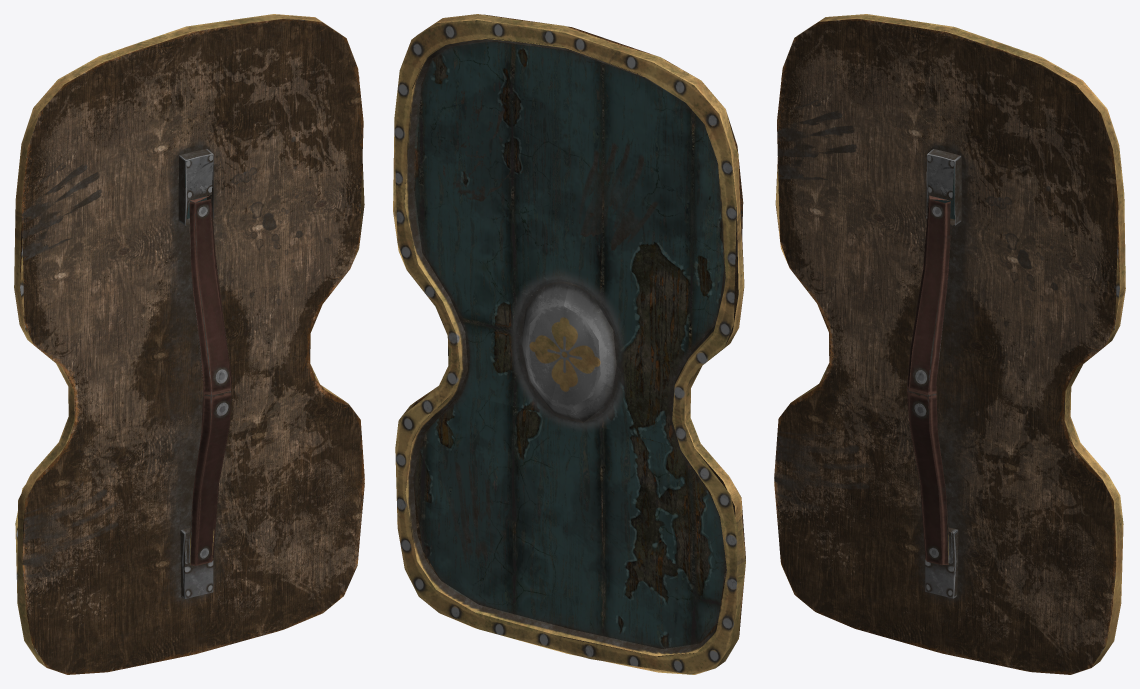
Rendered from ARC0510160.fbx.
3 views of the same model, side by side, from view 1: azimuth 30°, elevation 25°; view 2: azimuth 150°, elevation 25°; view 3: azimuth 330°, elevation 25° (orthographic).
Parts seen in each view (by area): view 1: smARC0510160; view 2: smARC0510160; view 3: smARC0510160.
Part boxes in pixels (x1,y1,x2,y2): smARC0510160: (14, 14, 364, 674); smARC0510160: (393, 14, 745, 674); smARC0510160: (774, 14, 1125, 674).
Size of the model in its own units: 52.48 by 90.22 by 10.01.
1 material, 1 textured.
